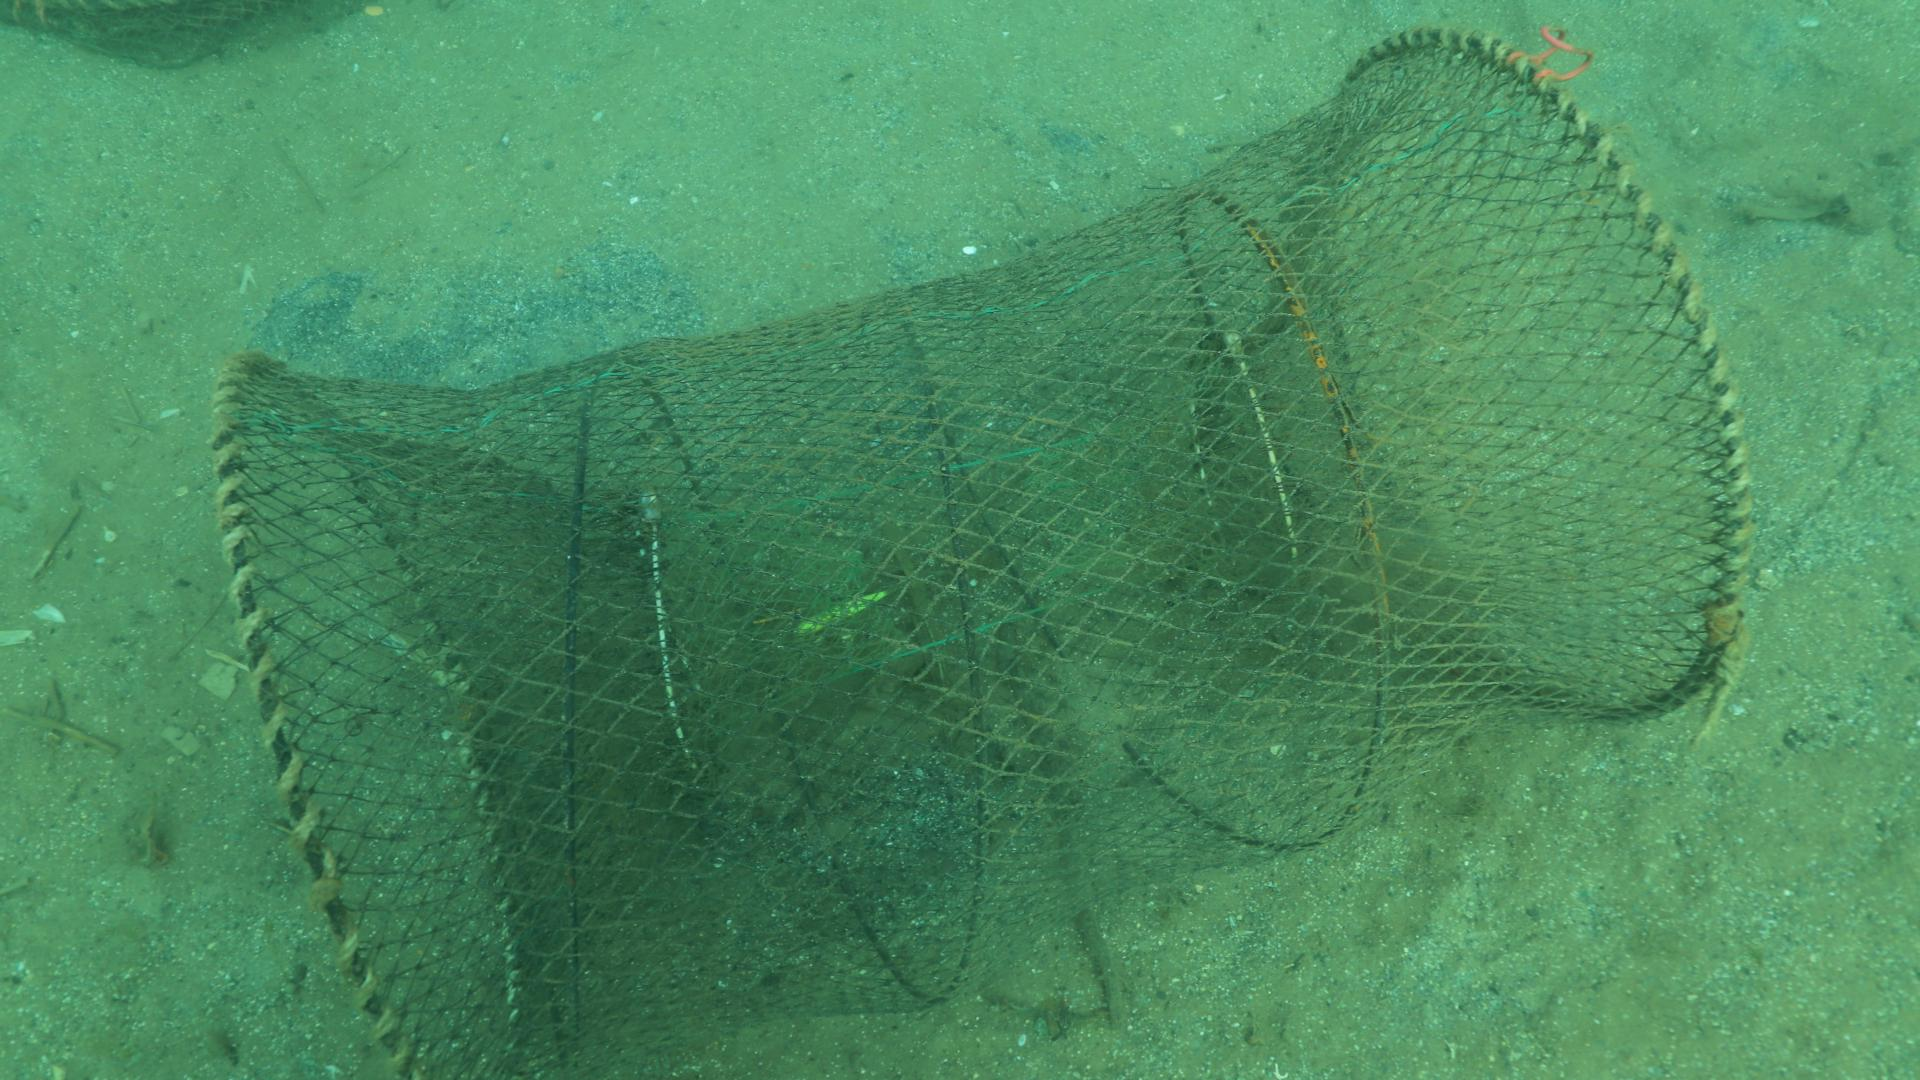spring fish trap: (208, 24, 1751, 1080)
